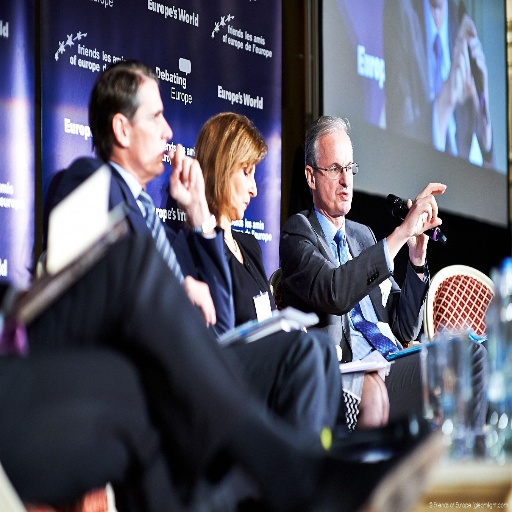hand: (446, 10, 477, 107), (167, 139, 206, 211), (468, 35, 492, 142), (182, 273, 217, 331), (404, 198, 430, 267)
